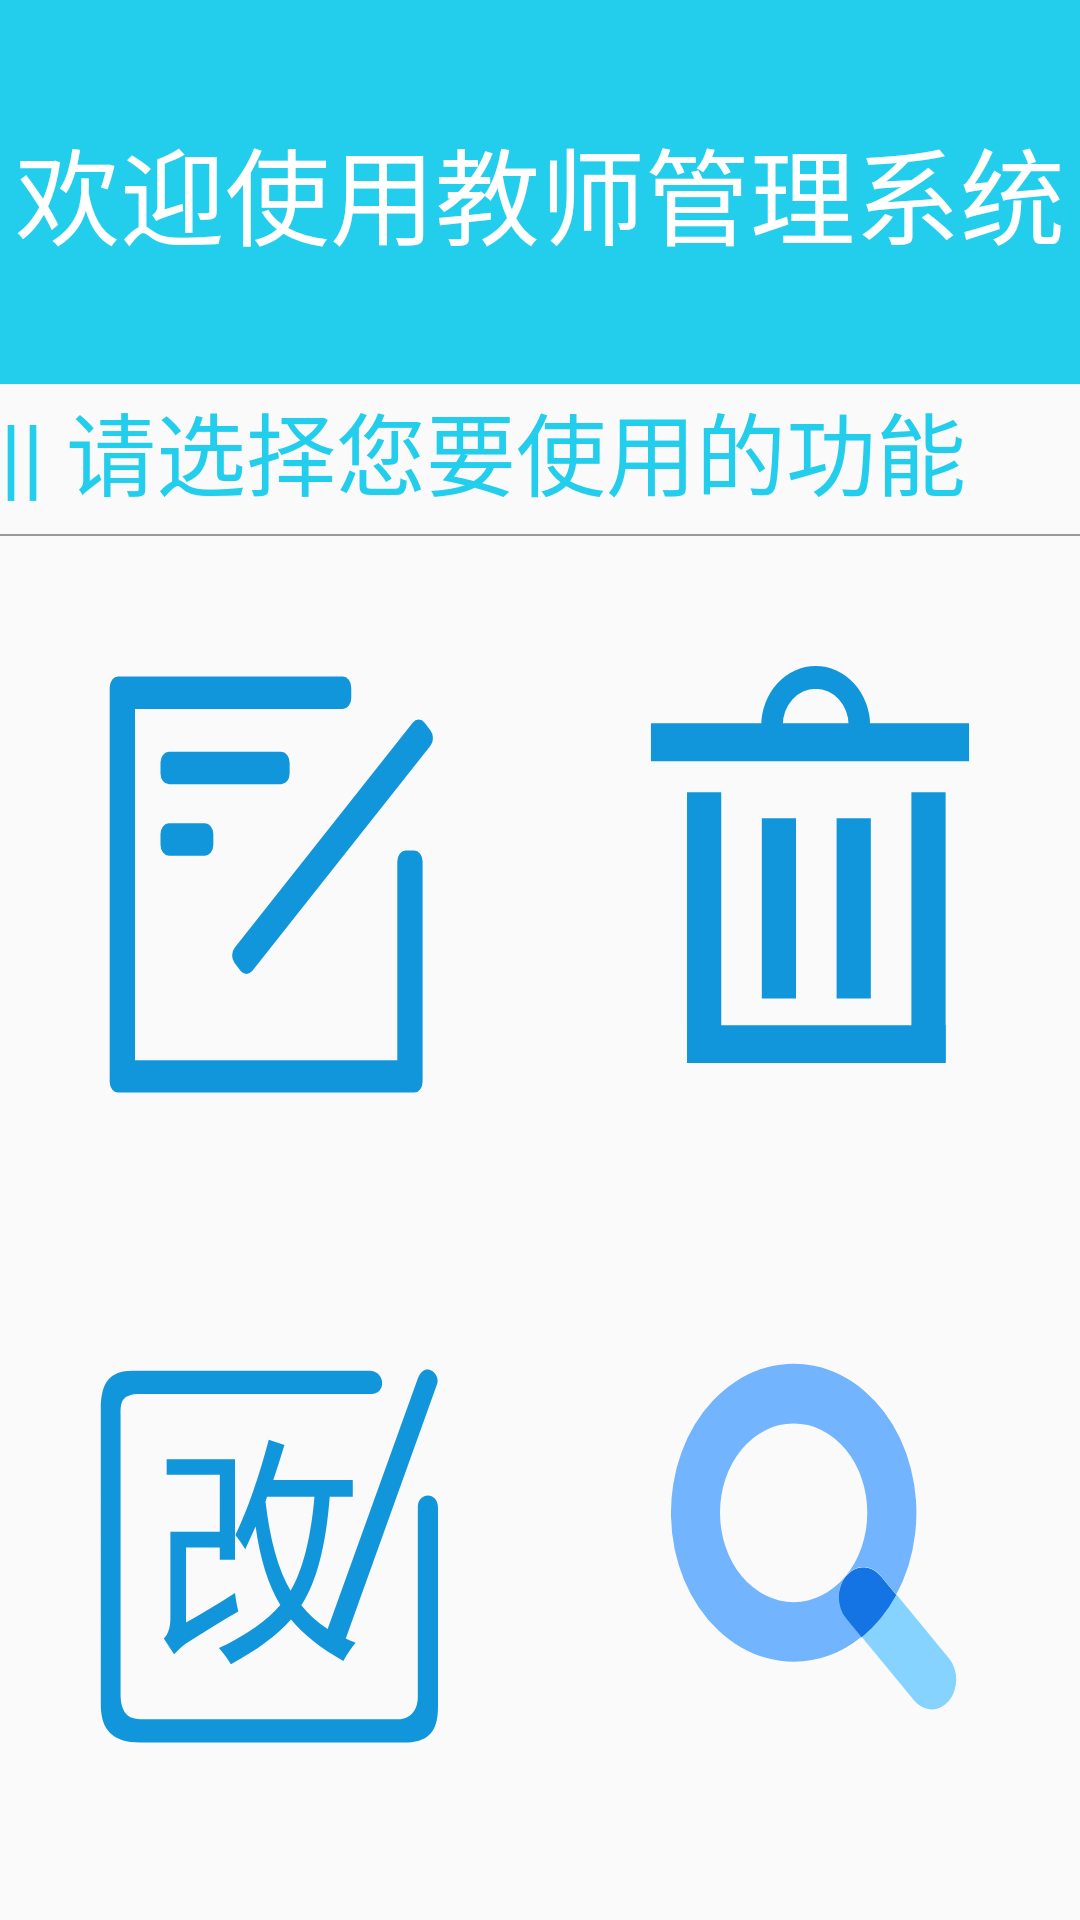

Icon click points for this 1080x1920 phone screenshot, format (x,y):
search: (813,1536)
